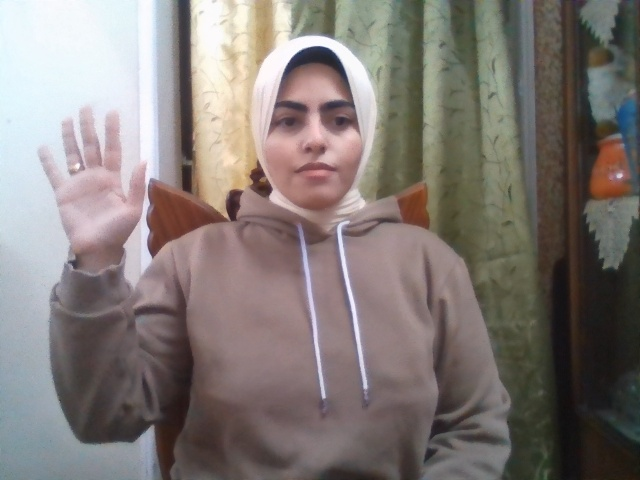hello: (37, 104, 147, 258)
